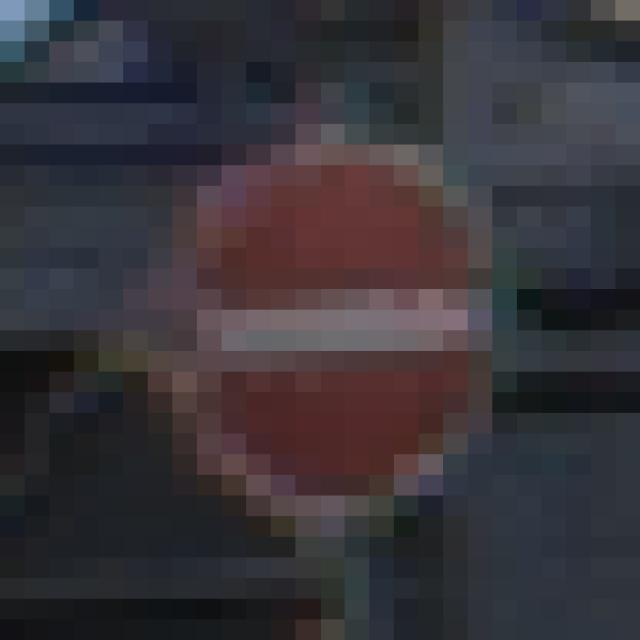No Entry: (124, 104, 518, 538)
